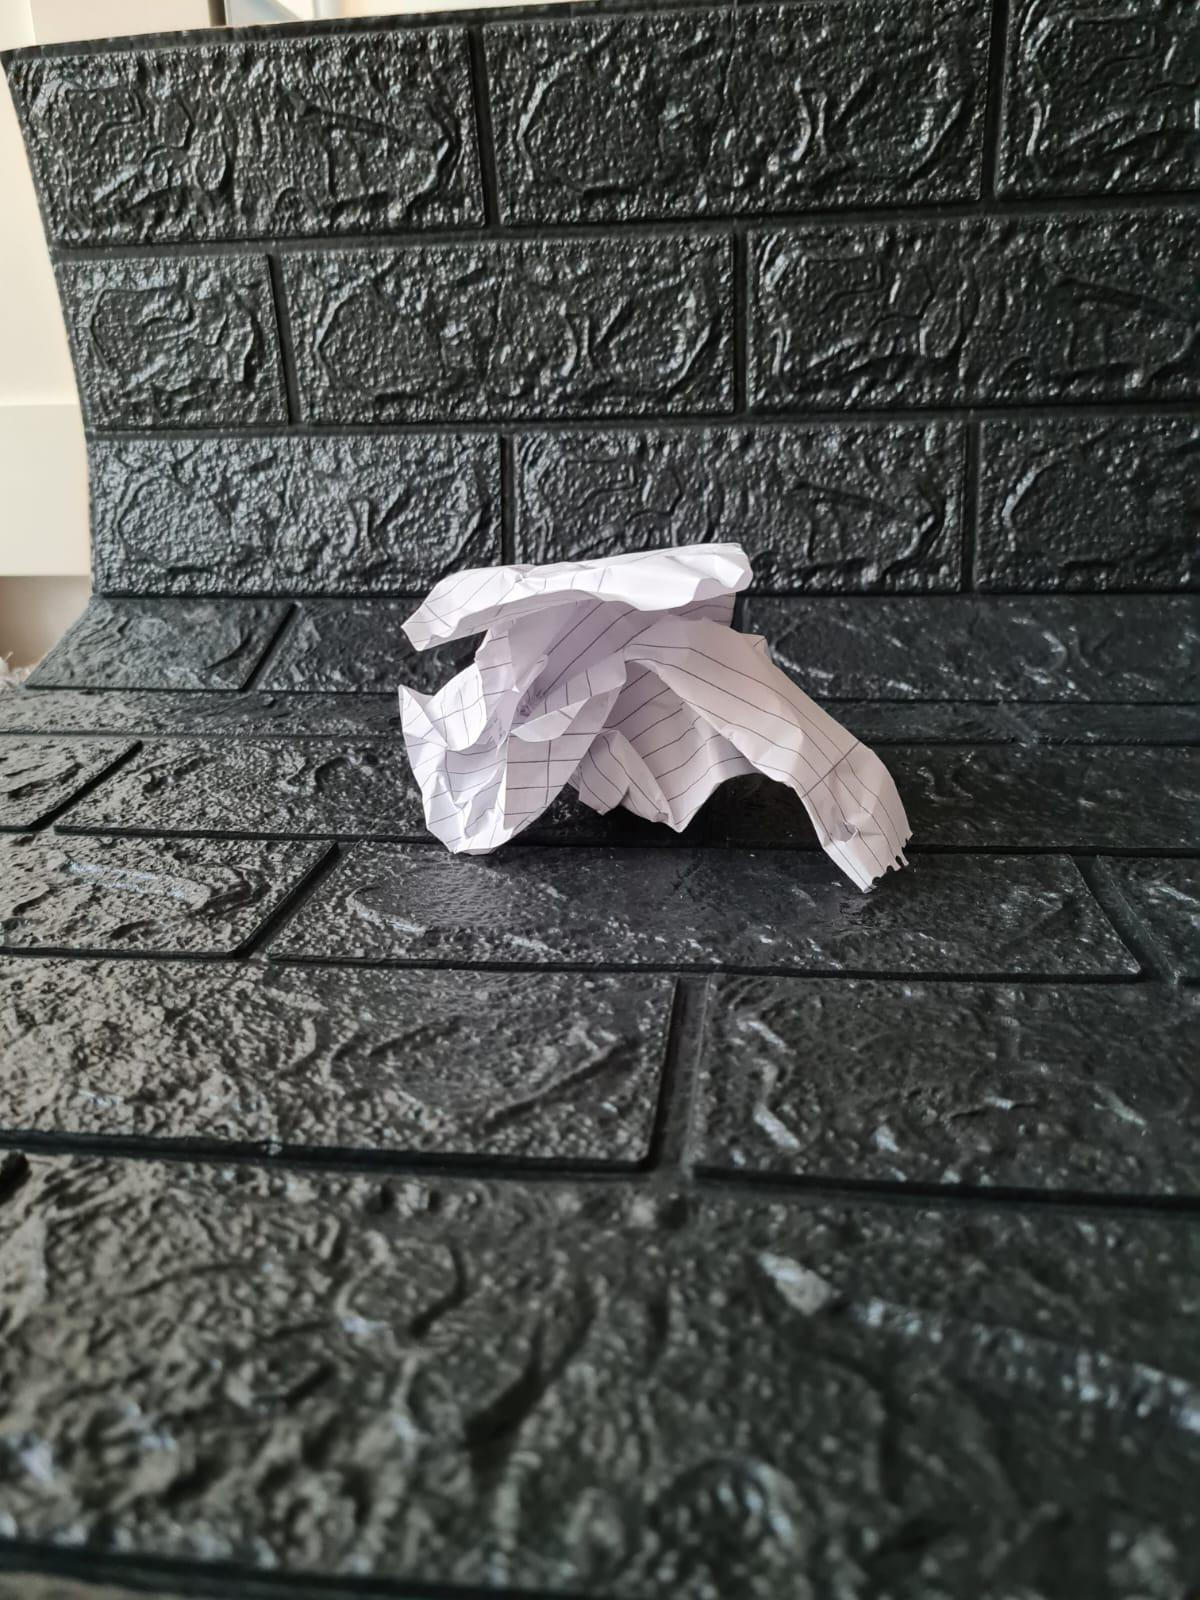Paper: (398, 544, 913, 914)
